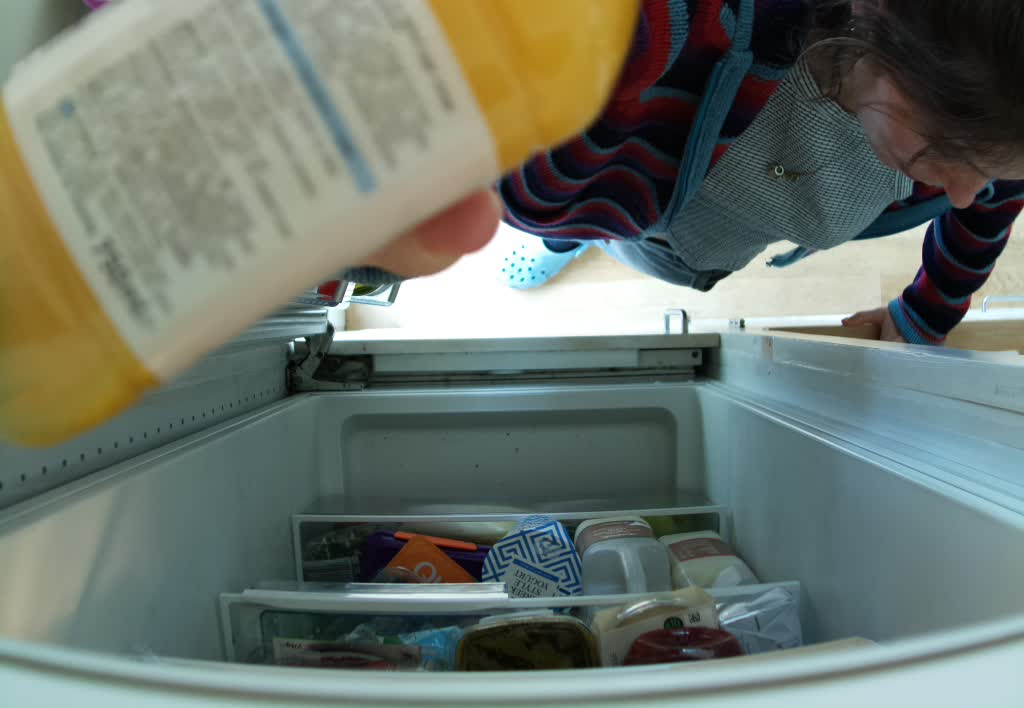juice: (1, 1, 645, 457)
